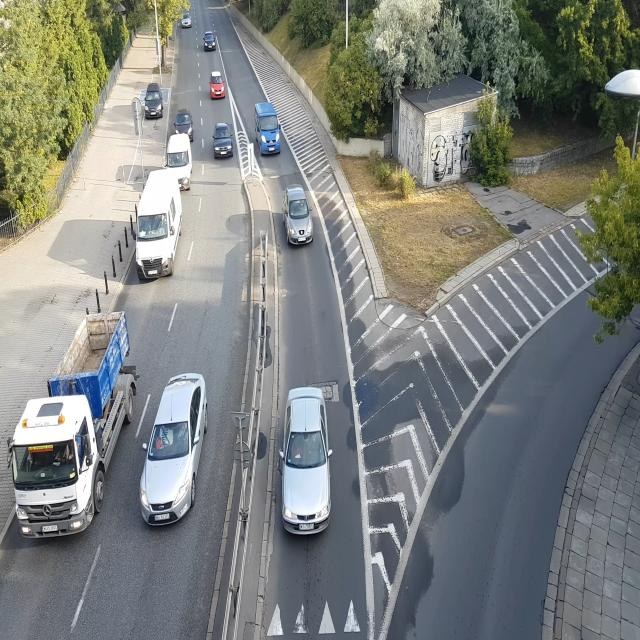car: (137, 373, 207, 525), (284, 383, 336, 539), (134, 170, 184, 281), (284, 187, 314, 247), (166, 134, 193, 191), (254, 103, 283, 155), (212, 122, 234, 159), (144, 86, 164, 118), (211, 73, 227, 100), (174, 112, 192, 135), (203, 34, 216, 52), (182, 16, 192, 28)
truck: (10, 308, 130, 538)
